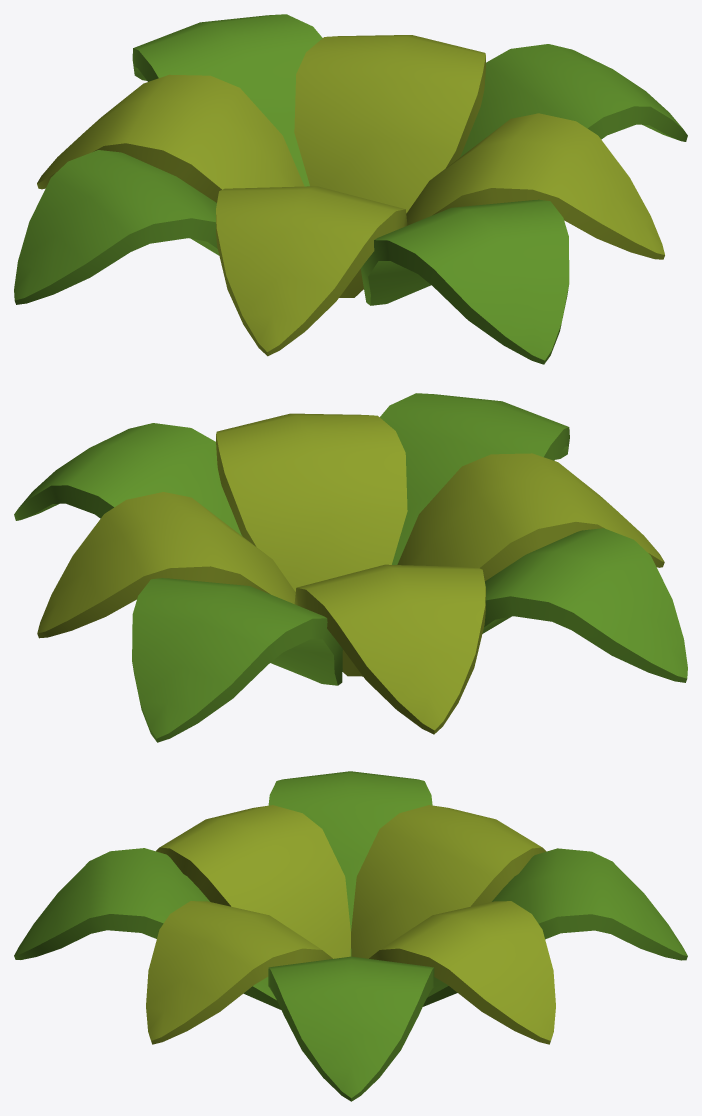
The model's file is Plant_Large.glb.
The picture shows the model from 3 angles, top to bottom: view 1: azimuth 30°, elevation 25°; view 2: azimuth 150°, elevation 25°; view 3: azimuth 270°, elevation 25°; orthographic projection. The views are drawn at different scales.
Visible parts, largest first — view 1: Plant_Large; view 2: Plant_Large; view 3: Plant_Large.
Boxes of the visible parts, box(x1,y1,x2,y2) form: Plant_Large: box(14, 14, 687, 364); Plant_Large: box(14, 393, 687, 742); Plant_Large: box(14, 771, 687, 1101).
Size of the model in its own units: 1.7 by 0.3904 by 1.7.
